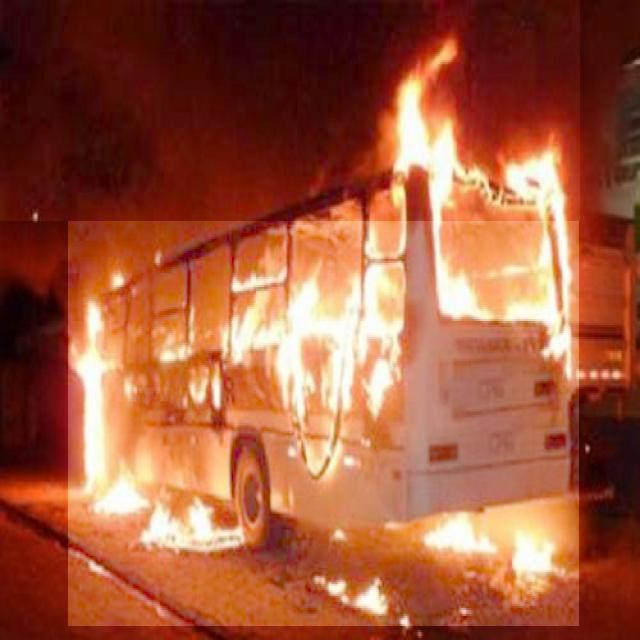Fire: (68, 46, 579, 626)
Smoke: (0, 0, 580, 221)
